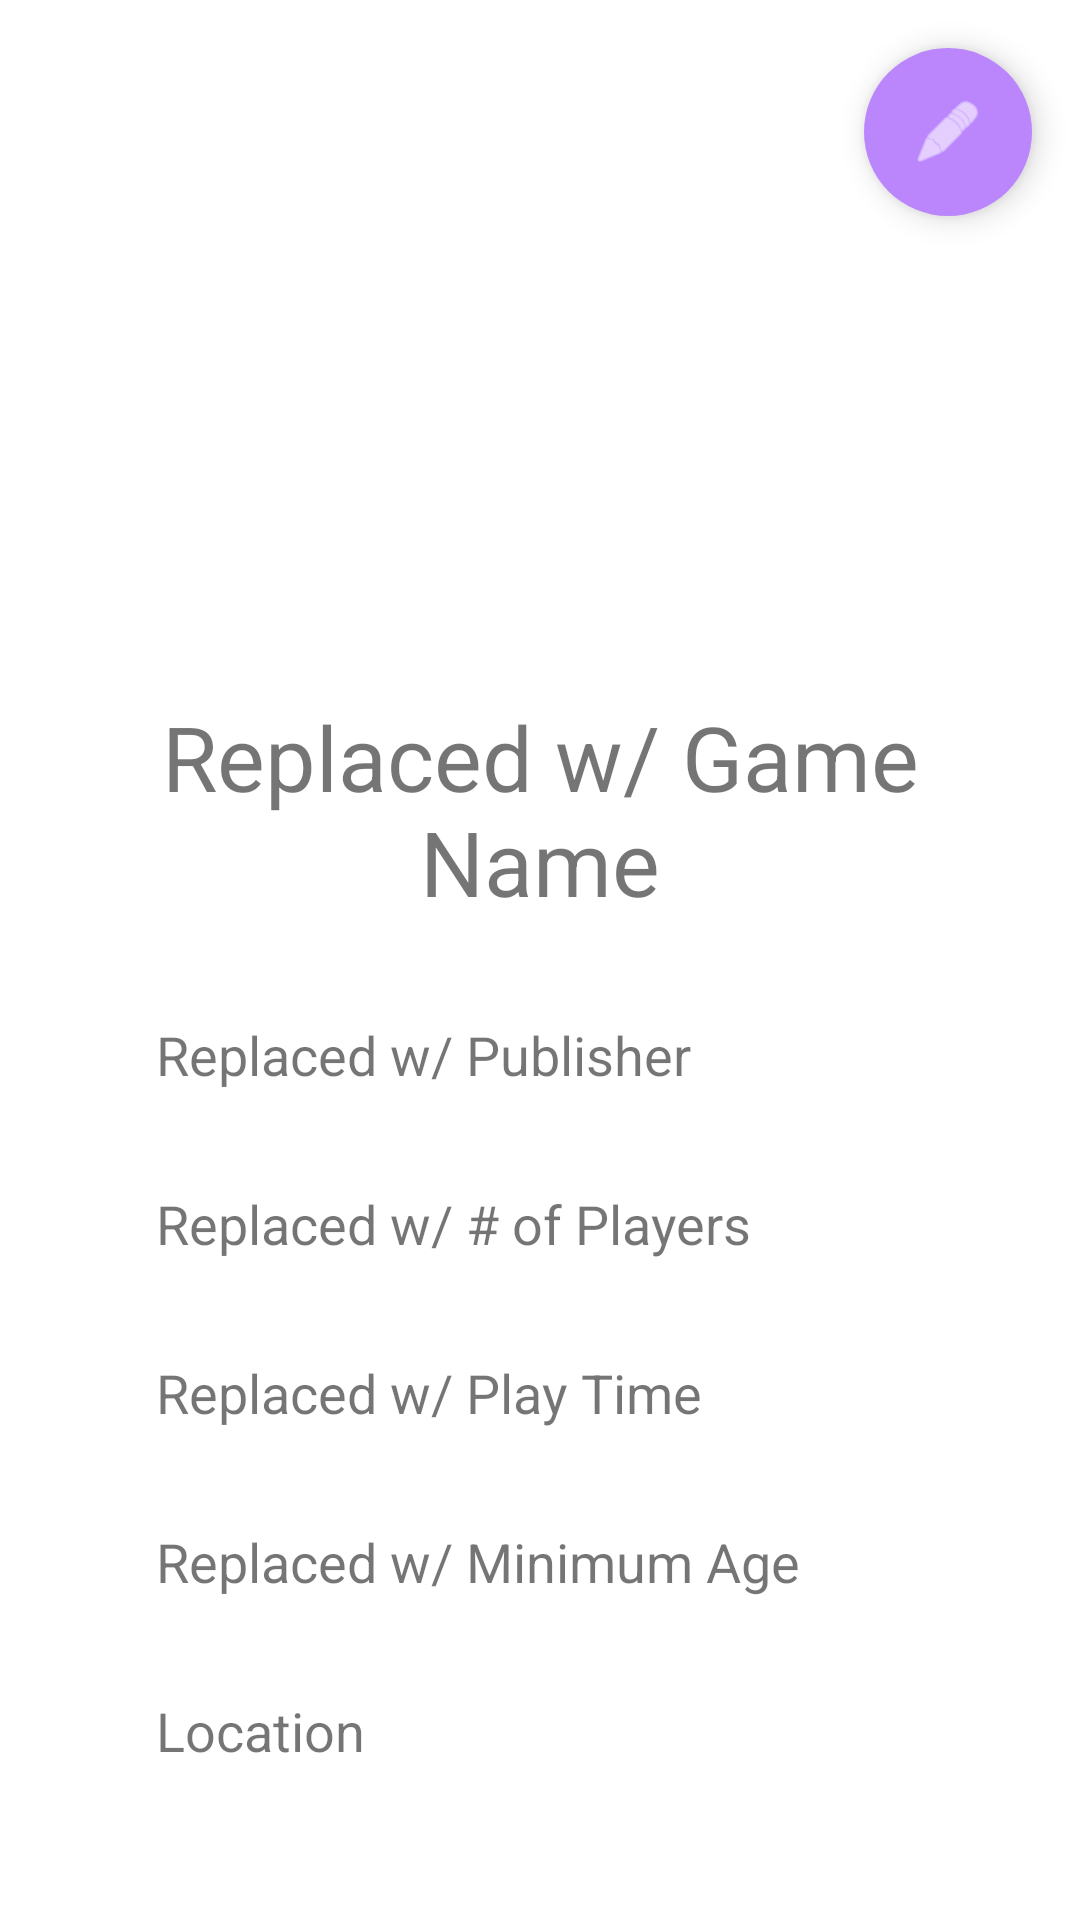

Point at icon controls on the screen. Image size 1080px x 1920px, points as point (x, y).
Pencil: point (948, 132)
